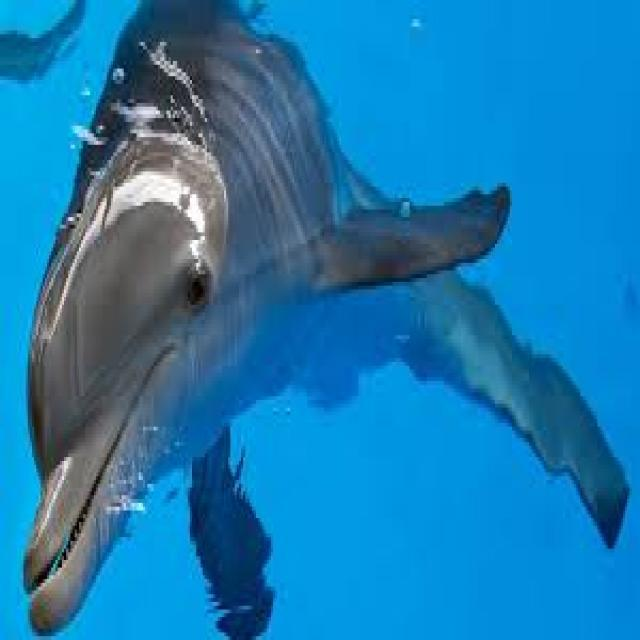dolphin: (11, 4, 556, 640)
